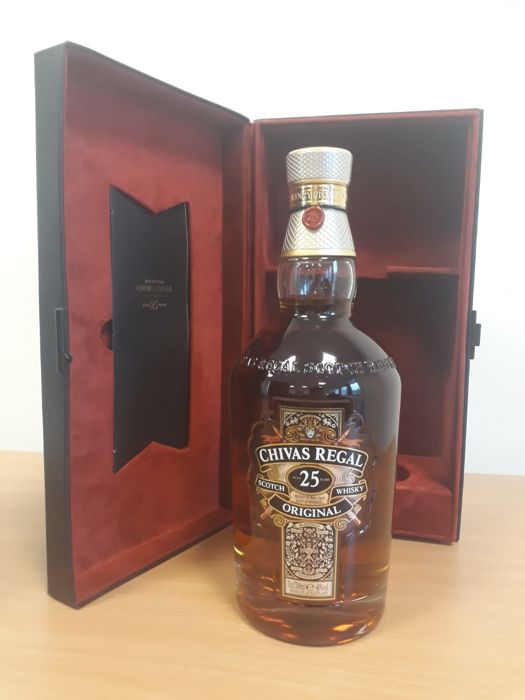Chivas Regal: (218, 139, 408, 654)
